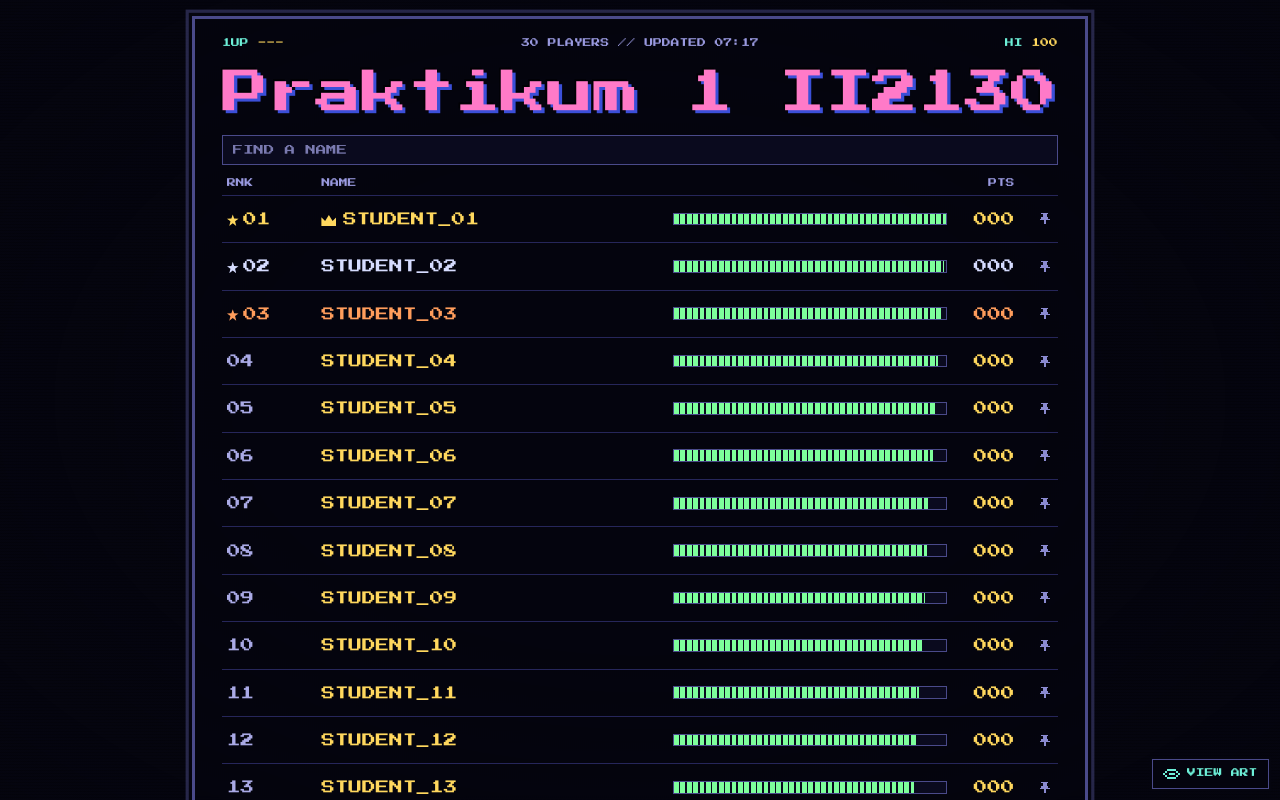
Test: App pinning › does not pin when the search matches a name exactly, only the pin button pins
Expected: the text "student_01" is shown, [317,195,668,243]
In the search field labelled "FIND A NAME": coordinates (640, 150) [222,135,1058,165], type "student_12"
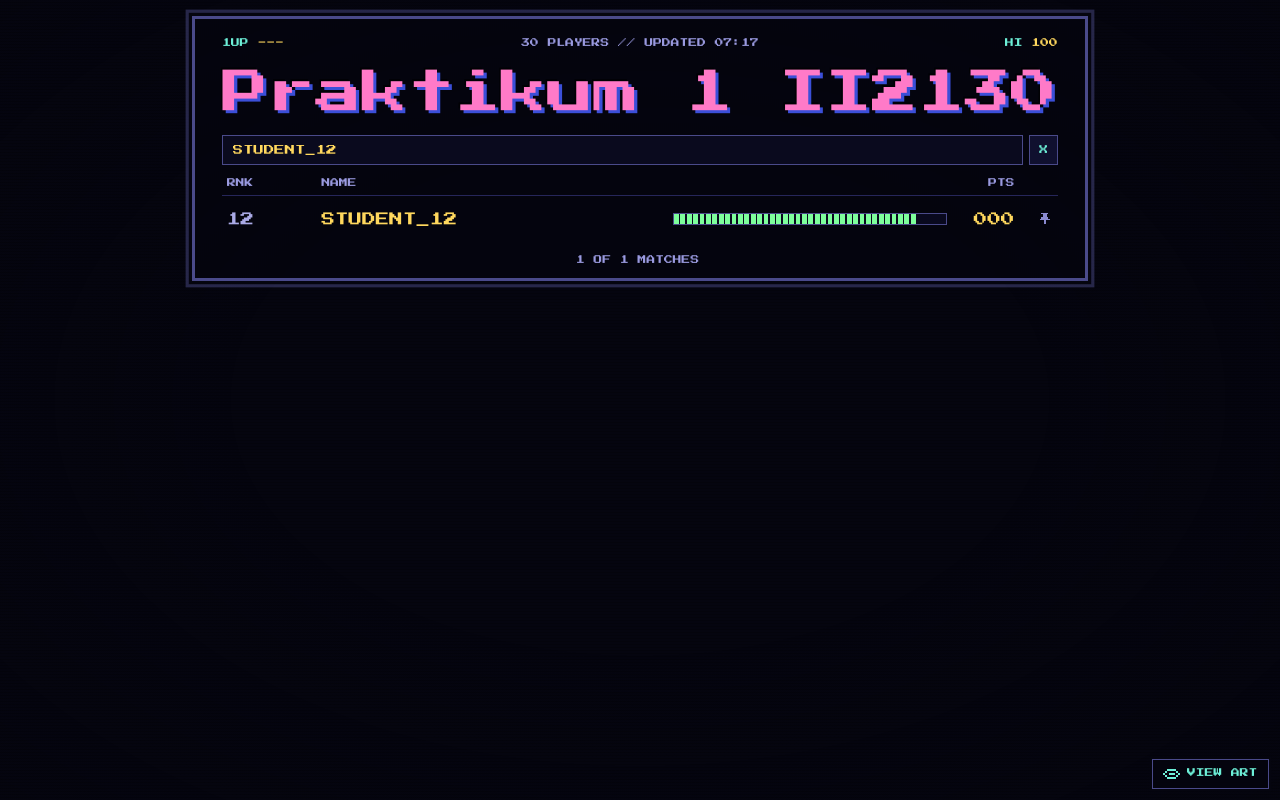
Expected: the text "YOU" is not shown
Click the button named "Pin student_12 as you": coordinates (1045, 219) [1032,206,1058,232]
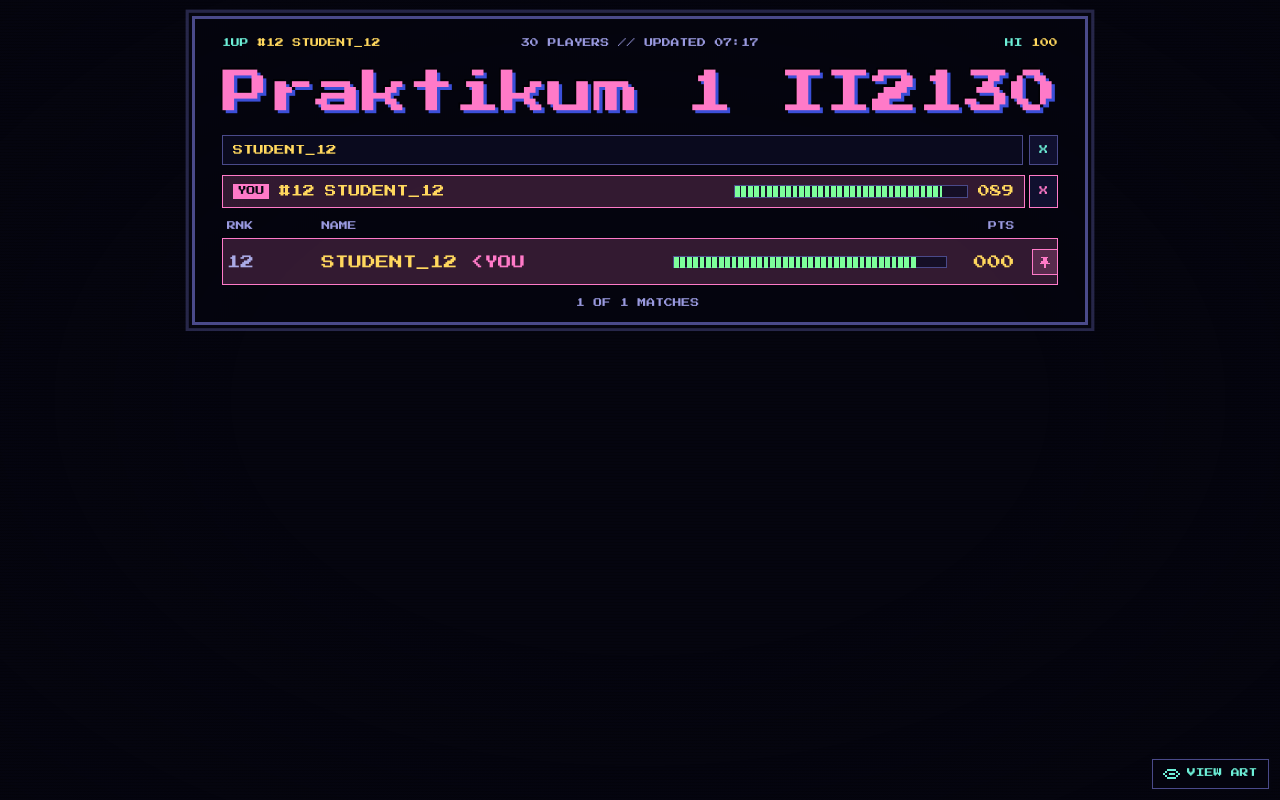
Result: the text "YOU" is shown at [233,184,269,199]
Result: the text "1UP #12 student_12" is shown at [222,38,381,47]
Click the button named "Forget my name": coordinates (1044, 191) [1029,175,1058,208]
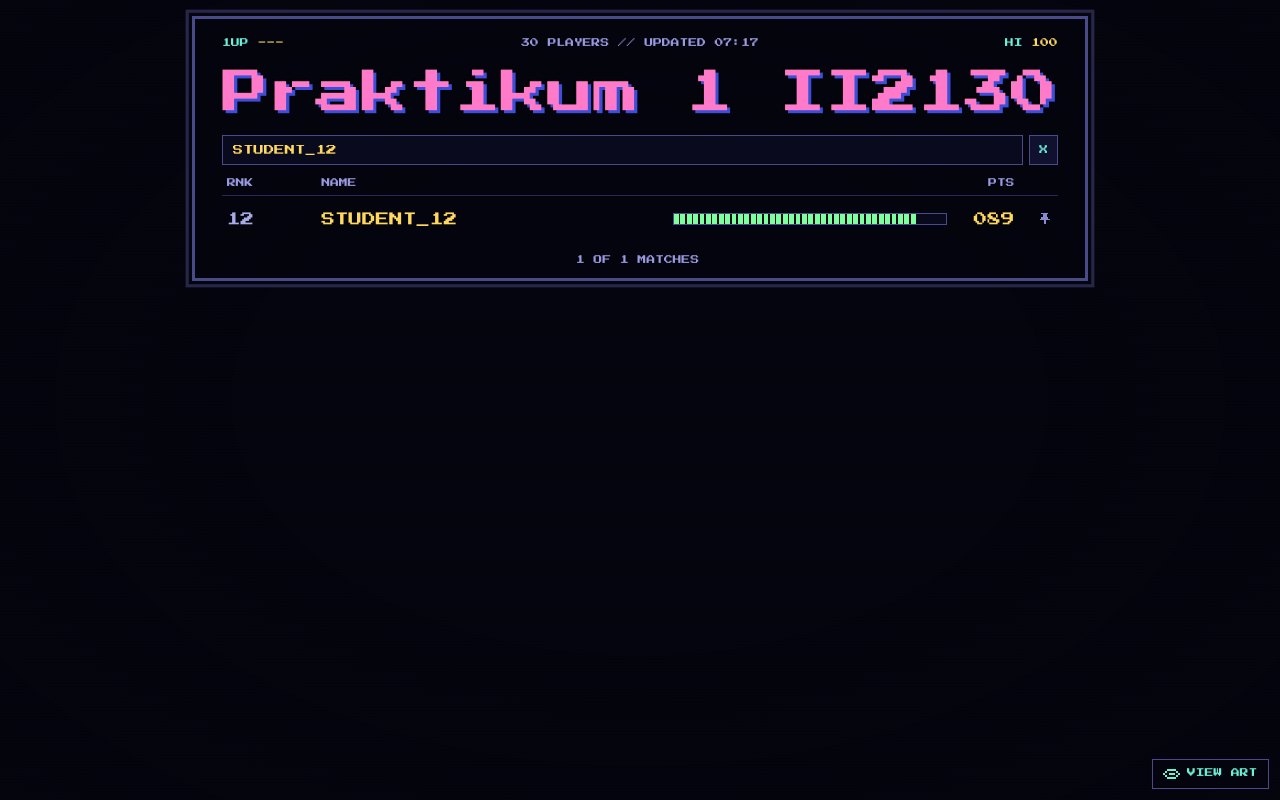
Result: the button "YOU" is gone
